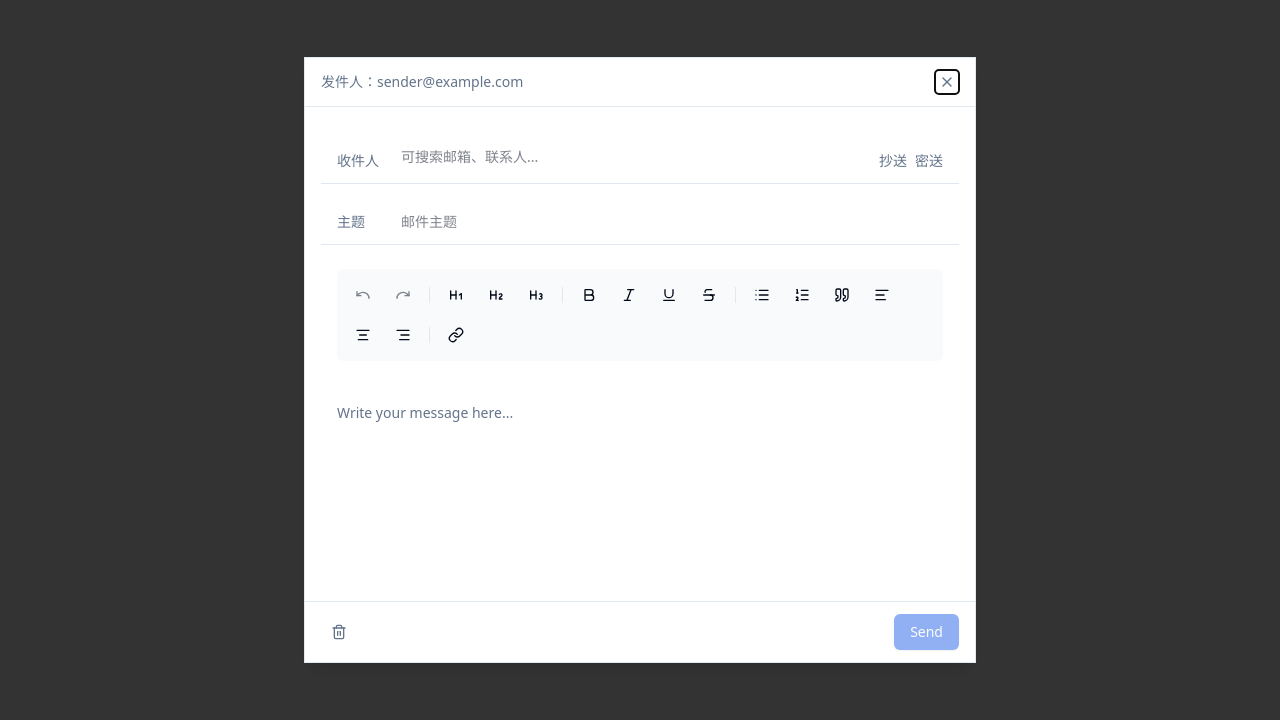
ComposeEmailModal - Rendering › To/Cc/Bcc Fields › Cc field has correct id for accessibility
Click the button "抄送" at coordinates (893, 161), box [879,151,907,171]
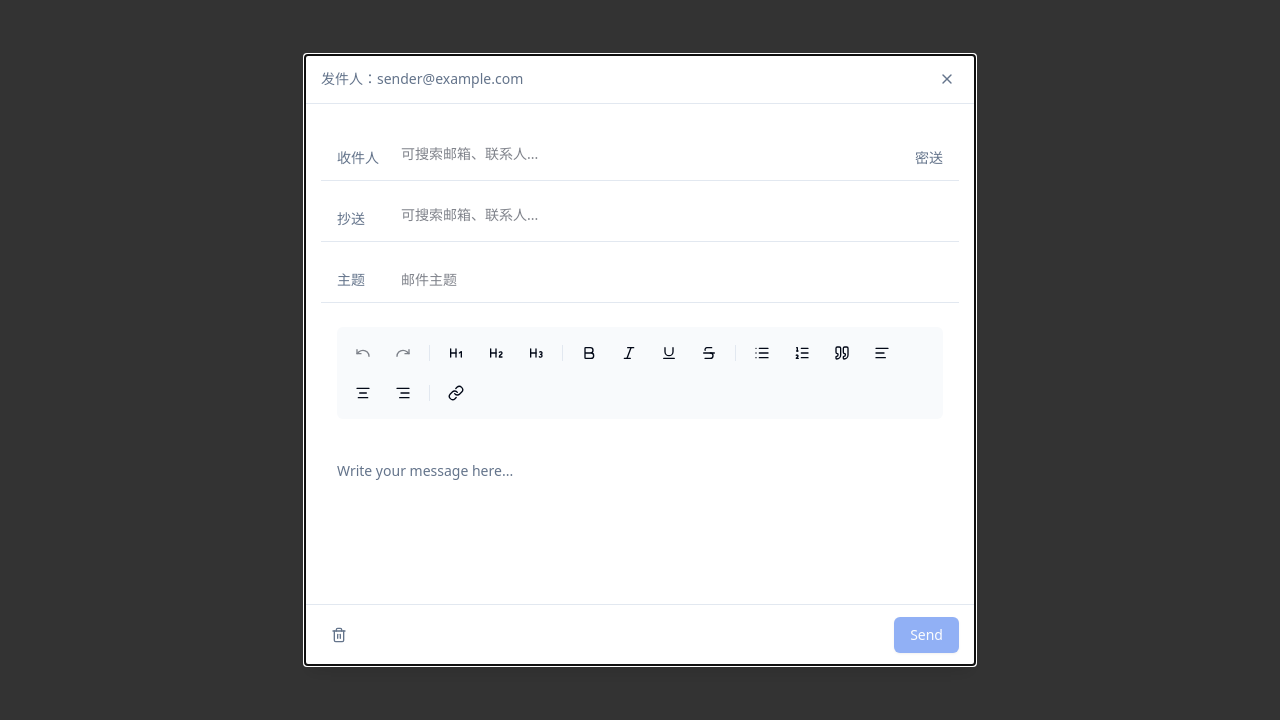
Check: the field with id "cc-input" is shown, box [401,205,943,225]
